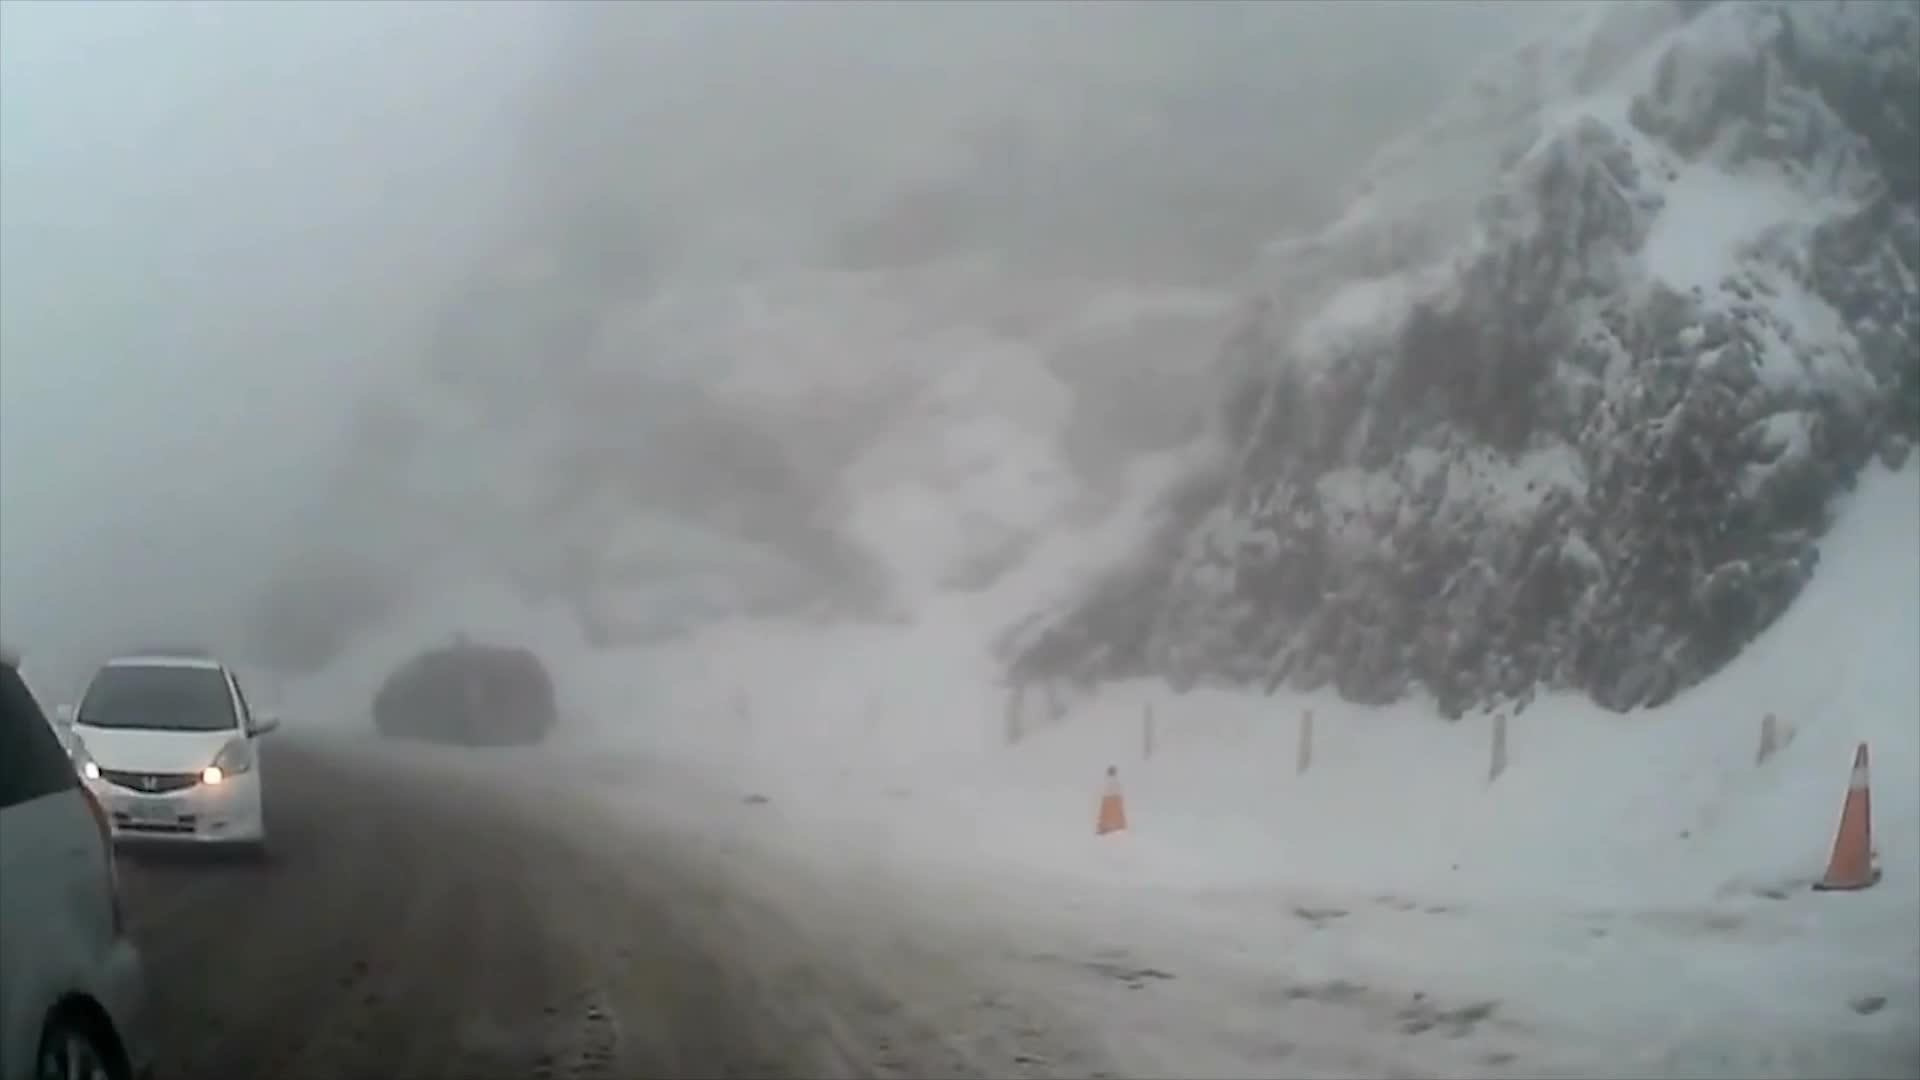vehicle: (0, 645, 154, 1080), (47, 651, 276, 868), (373, 645, 558, 749)
